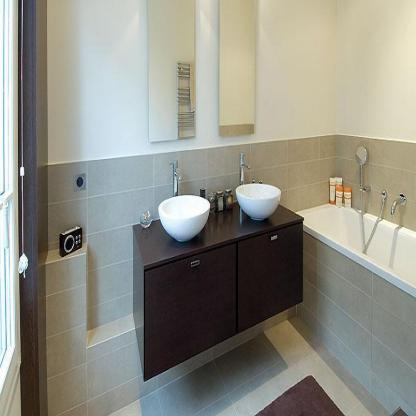other: (165, 192, 205, 228), (324, 172, 352, 211)
